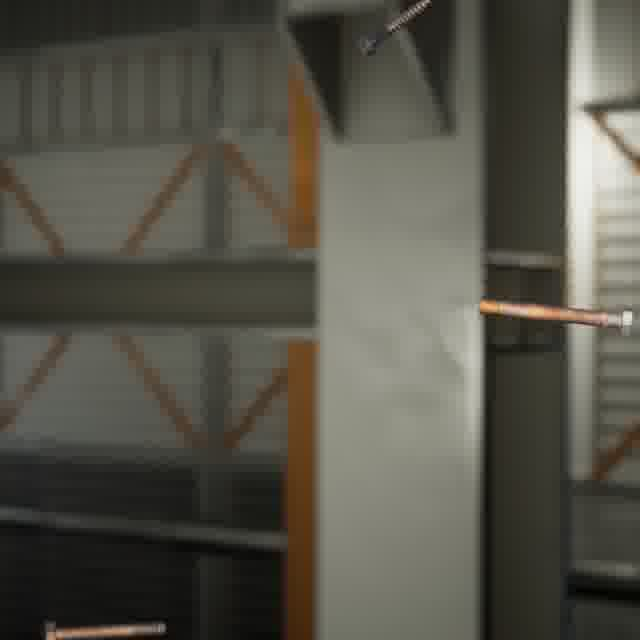bolt: (474, 294, 637, 339), (353, 0, 435, 59), (39, 617, 171, 640)
